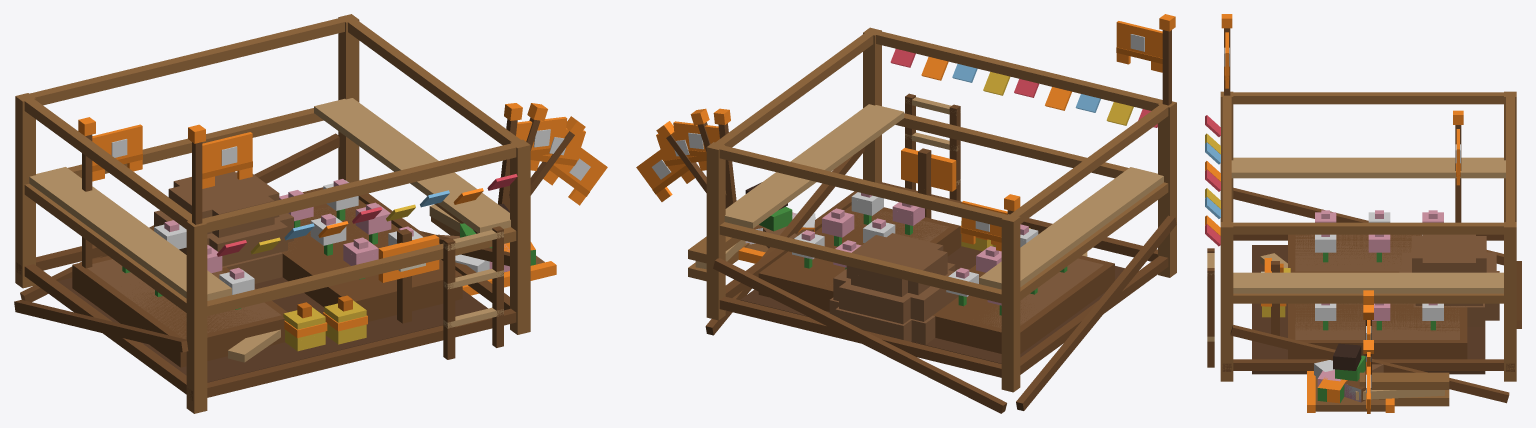
Rendered from bumblebee-producer.glb.
The picture shows the model from 3 angles, left to right: view 1: azimuth 30°, elevation 25°; view 2: azimuth 150°, elevation 25°; view 3: azimuth 270°, elevation 25°; orthographic projection. The views are drawn at different scales.
Visible parts, largest first — view 1: scaffold-mesh, built-mesh, dismantle-75-mesh, dismantle-25-mesh, scaffold-banner, dismantle-25-banner, banner, dismantle-50-mesh, scaffold-flag-pole, dismantle-75-banner, flag-pole, dismantle-25-flag-pole (+3 smaller); view 2: scaffold-mesh, built-mesh, dismantle-75-mesh, scaffold-banner, dismantle-25-mesh, dismantle-25-banner, dismantle-50-mesh, banner, dismantle-50-banner, scaffold-flag-pole, dismantle-75-banner, dismantle-75-flag-pole (+1 smaller); view 3: scaffold-mesh, built-mesh, dismantle-25-mesh, dismantle-75-mesh, dismantle-50-mesh, flag-pole, scaffold-flag-pole.
Part boxes in pixels (x1,y1,x2,y2): scaffold-mesh: (14, 14, 530, 413); built-mesh: (154, 171, 462, 359); dismantle-75-mesh: (127, 191, 555, 337); dismantle-25-mesh: (180, 203, 556, 382); scaffold-banner: (202, 132, 252, 188); dismantle-25-banner: (543, 140, 607, 205); banner: (92, 124, 142, 181); dismantle-50-mesh: (125, 250, 535, 362); scaffold-flag-pole: (188, 124, 205, 224); dismantle-75-banner: (516, 117, 567, 157); flag-pole: (78, 117, 95, 268); dismantle-25-flag-pole: (530, 116, 585, 195); scaffold-mesh: (688, 27, 1176, 413); built-mesh: (792, 148, 1038, 339); dismantle-75-mesh: (739, 197, 1038, 353); scaffold-banner: (1116, 21, 1162, 72); dismantle-25-mesh: (738, 182, 1087, 363); dismantle-25-banner: (636, 143, 694, 201); dismantle-50-mesh: (746, 227, 1087, 353); banner: (961, 201, 1007, 251); dismantle-50-banner: (656, 129, 706, 175); scaffold-flag-pole: (1159, 14, 1175, 105); dismantle-75-banner: (673, 121, 719, 158); dismantle-75-flag-pole: (713, 108, 736, 206); scaffold-mesh: (1205, 91, 1521, 406); built-mesh: (1252, 210, 1486, 373); dismantle-25-mesh: (1252, 245, 1388, 411); dismantle-75-mesh: (1262, 212, 1499, 412); dismantle-50-mesh: (1260, 256, 1499, 412); flag-pole: (1453, 110, 1463, 222); scaffold-flag-pole: (1221, 14, 1232, 95).
Size of the model in its own units: 2.7 by 1.55 by 1.77.
